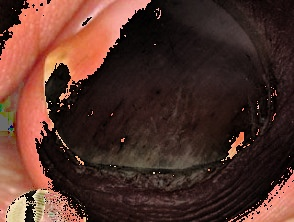Nail_psoriasis: (36, 0, 294, 213)
